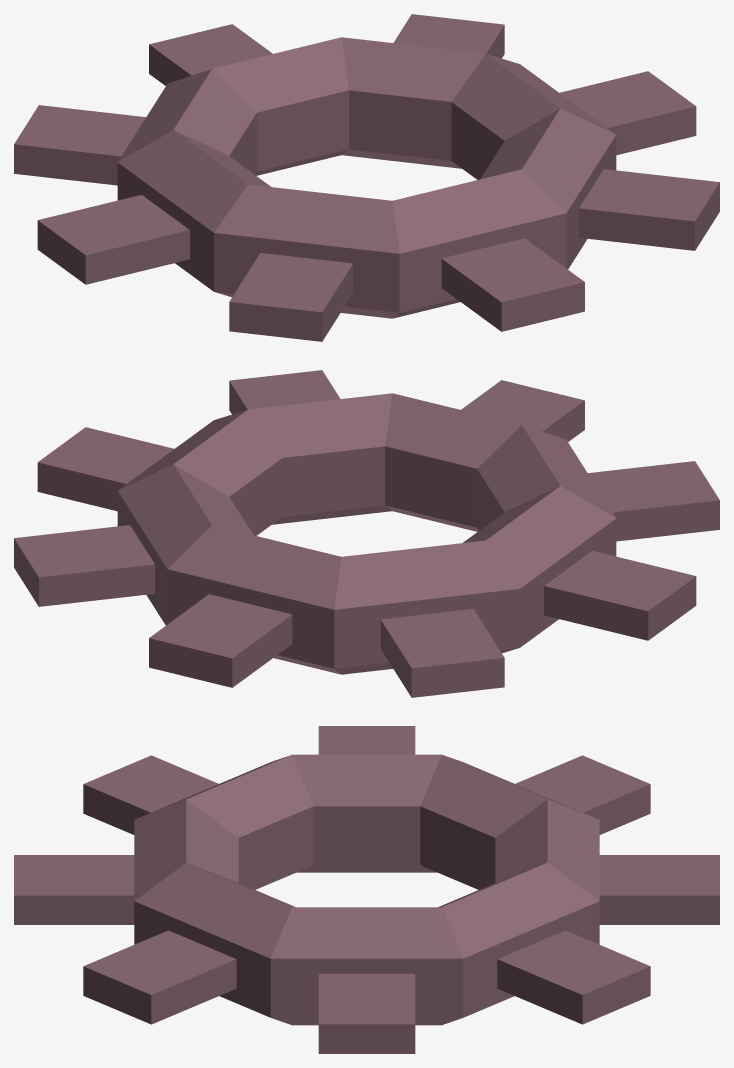
The model's file is gear.fbx.
The picture shows the model from 3 angles, top to bottom: view 1: azimuth 30°, elevation 25°; view 2: azimuth 150°, elevation 25°; view 3: azimuth 270°, elevation 25°; orthographic projection.
Parts seen in each view (by area): view 1: torus; view 2: torus; view 3: torus.
Boxes of the visible parts, x1,y1,x2,y2 form: torus: [14, 14, 719, 341]; torus: [14, 370, 719, 697]; torus: [14, 726, 719, 1053].
Bounding box in the file's own units: 110 × 20.29 × 110.
1 material, 1 textured.
